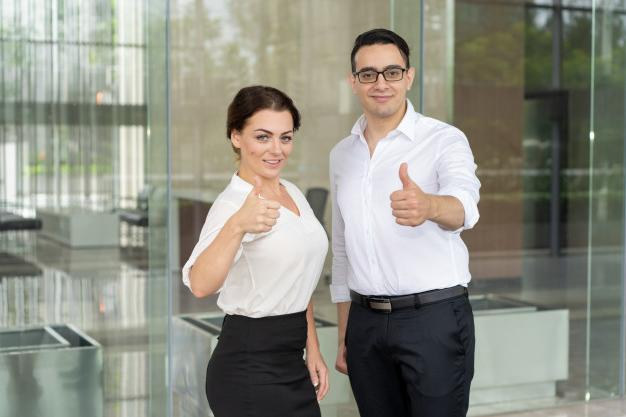thumbsup: (389, 162, 422, 227), (253, 174, 281, 233)
